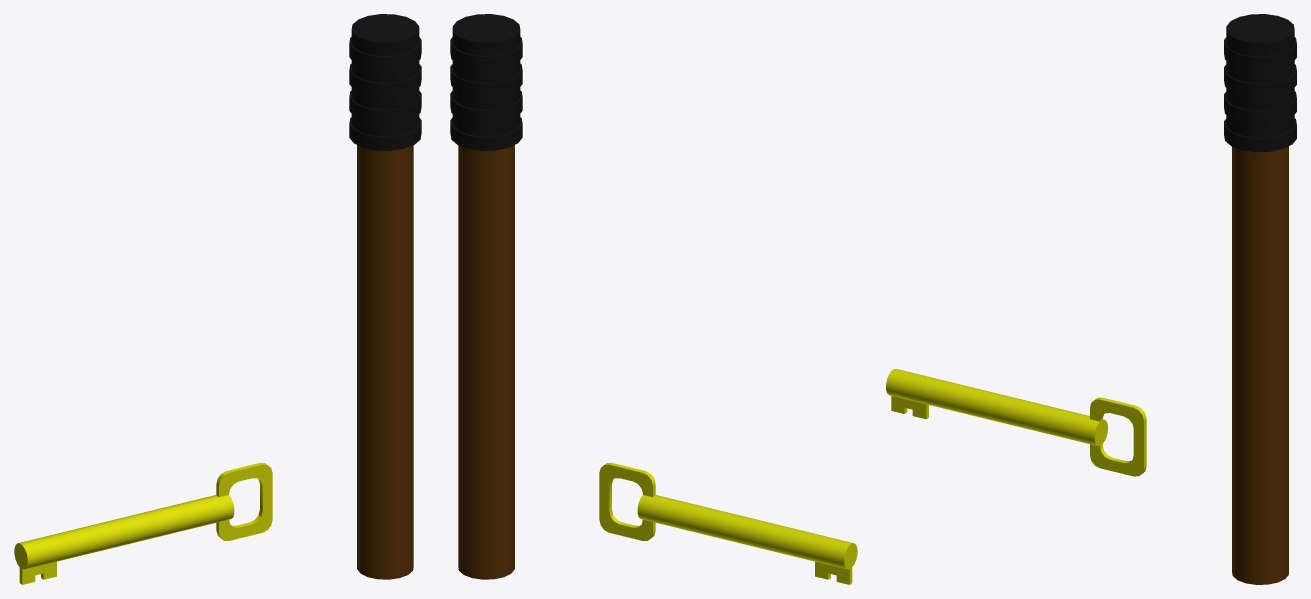
File: Key_Torch.fbx
3 views of the same model, side by side, from view 1: azimuth 30°, elevation 25°; view 2: azimuth 150°, elevation 25°; view 3: azimuth 330°, elevation 25° (orthographic).
Parts seen in each view (by area): view 1: Torch, Key; view 2: Torch, Key; view 3: Torch, Key.
Part boxes in pixels (box(x1,y1,x2,y2)): Torch: box(349, 14, 421, 579); Key: box(14, 462, 272, 584); Torch: box(450, 14, 522, 579); Key: box(599, 462, 857, 584); Torch: box(1224, 14, 1296, 584); Key: box(886, 369, 1146, 476).
Bounding box in the file's own units: 38.43 × 50.04 × 6.13.
